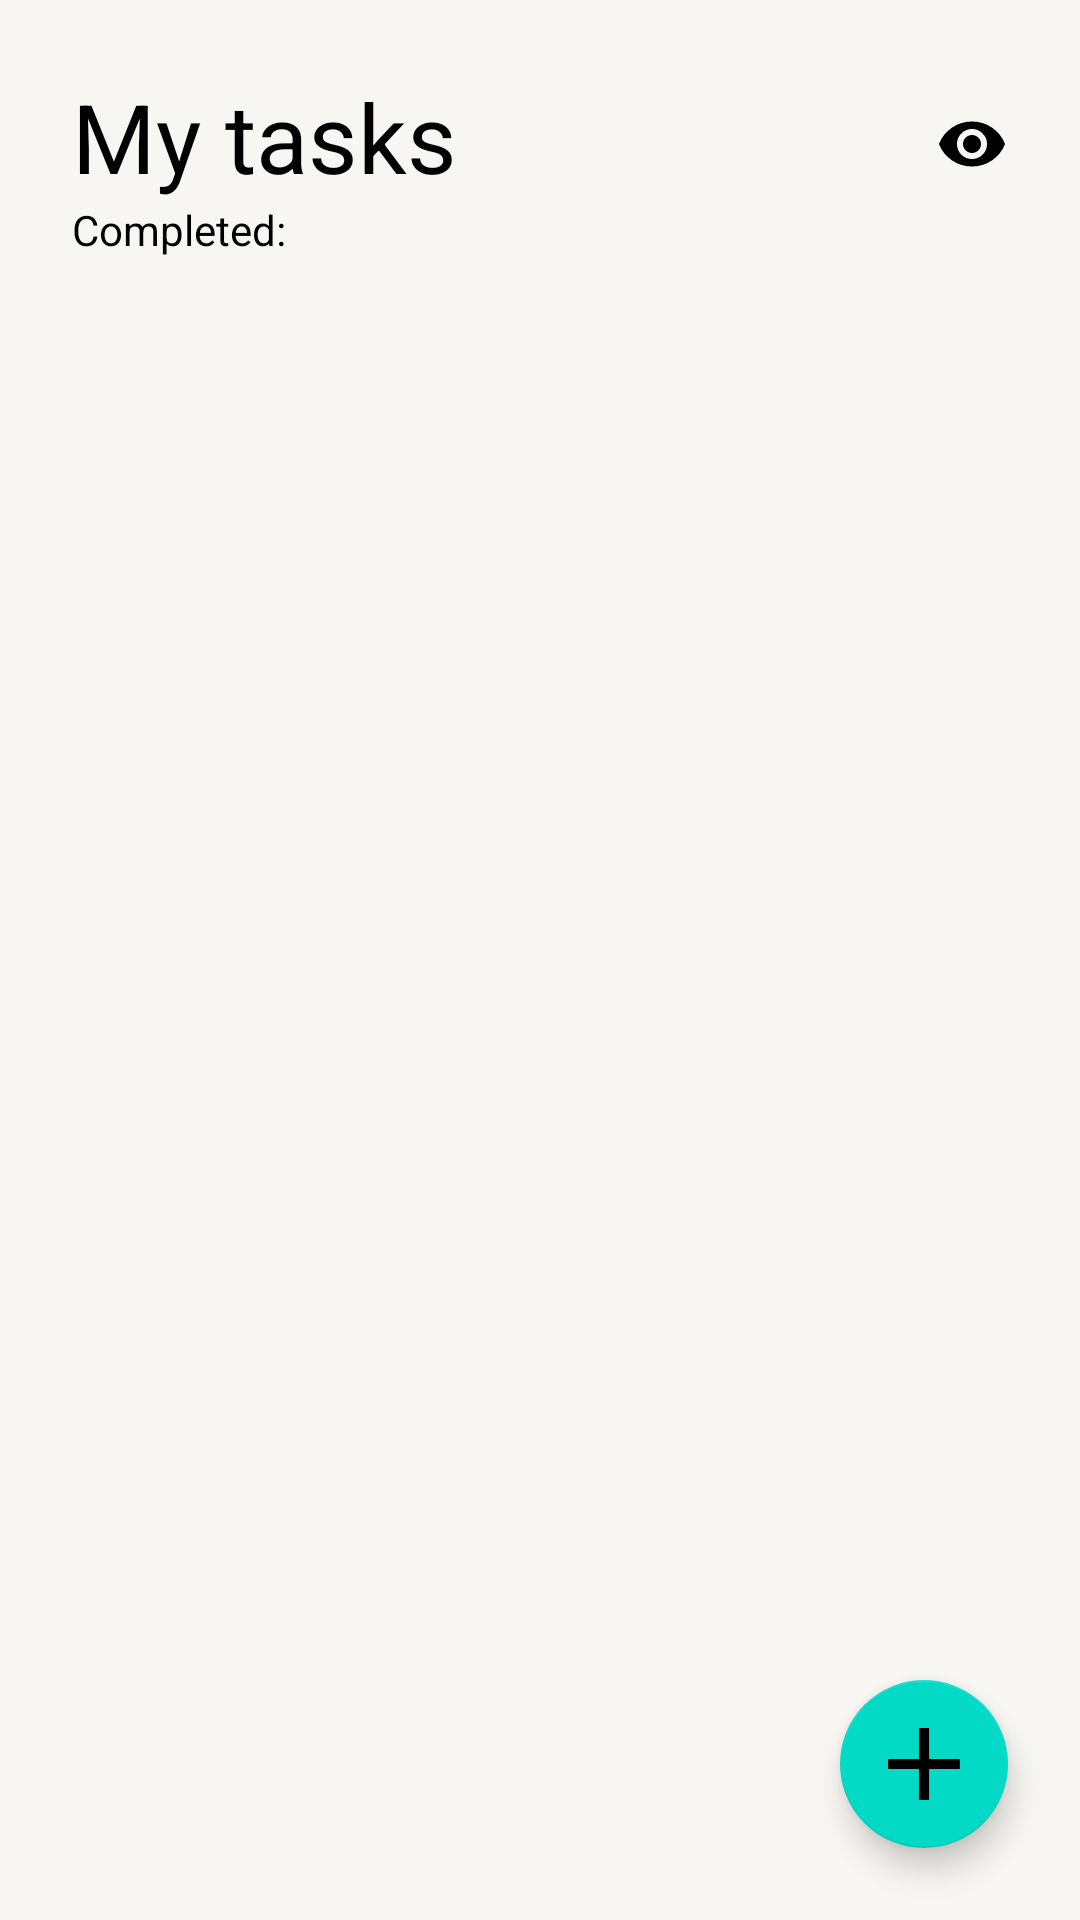

Icons on this 1080px×1920px Android screen, each with the point to tap as [x,y]:
add: [924,1764]
visibility: [972,144]
